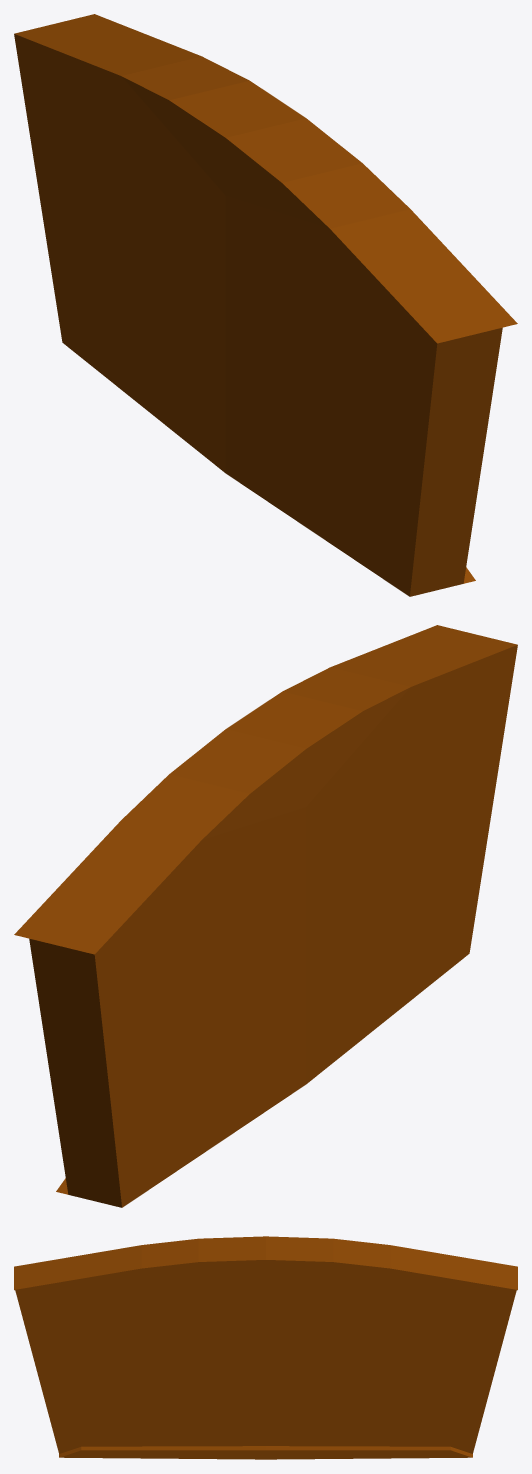
Rendered from Fence Up.fbx.
The picture shows the model from 3 angles, top to bottom: view 1: azimuth 30°, elevation 25°; view 2: azimuth 150°, elevation 25°; view 3: azimuth 270°, elevation 25°; orthographic projection. The views are drawn at different scales.
Visible parts, largest first — view 1: Fence up; view 2: Fence up; view 3: Fence up.
Part boxes in pixels (x1=…): Fence up: x1=14, y1=14, x2=517, y2=596; Fence up: x1=14, y1=625, x2=517, y2=1207; Fence up: x1=14, y1=1236, x2=517, y2=1459.
Size of the model in its own units: 143 by 570 by 1303.
